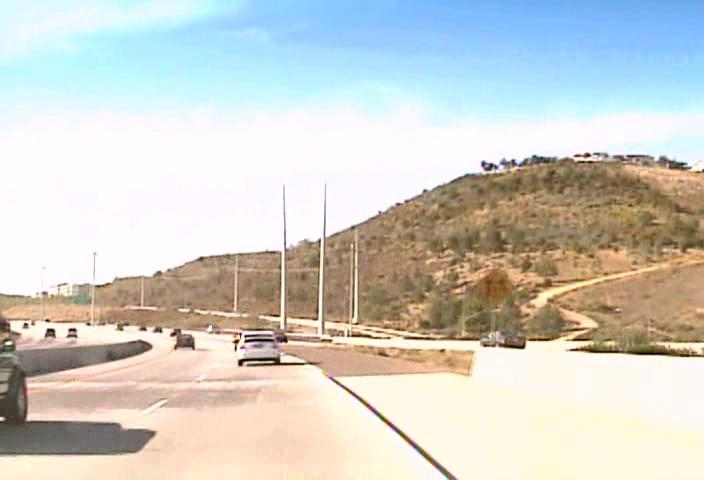addedLane: (472, 266, 515, 305)
